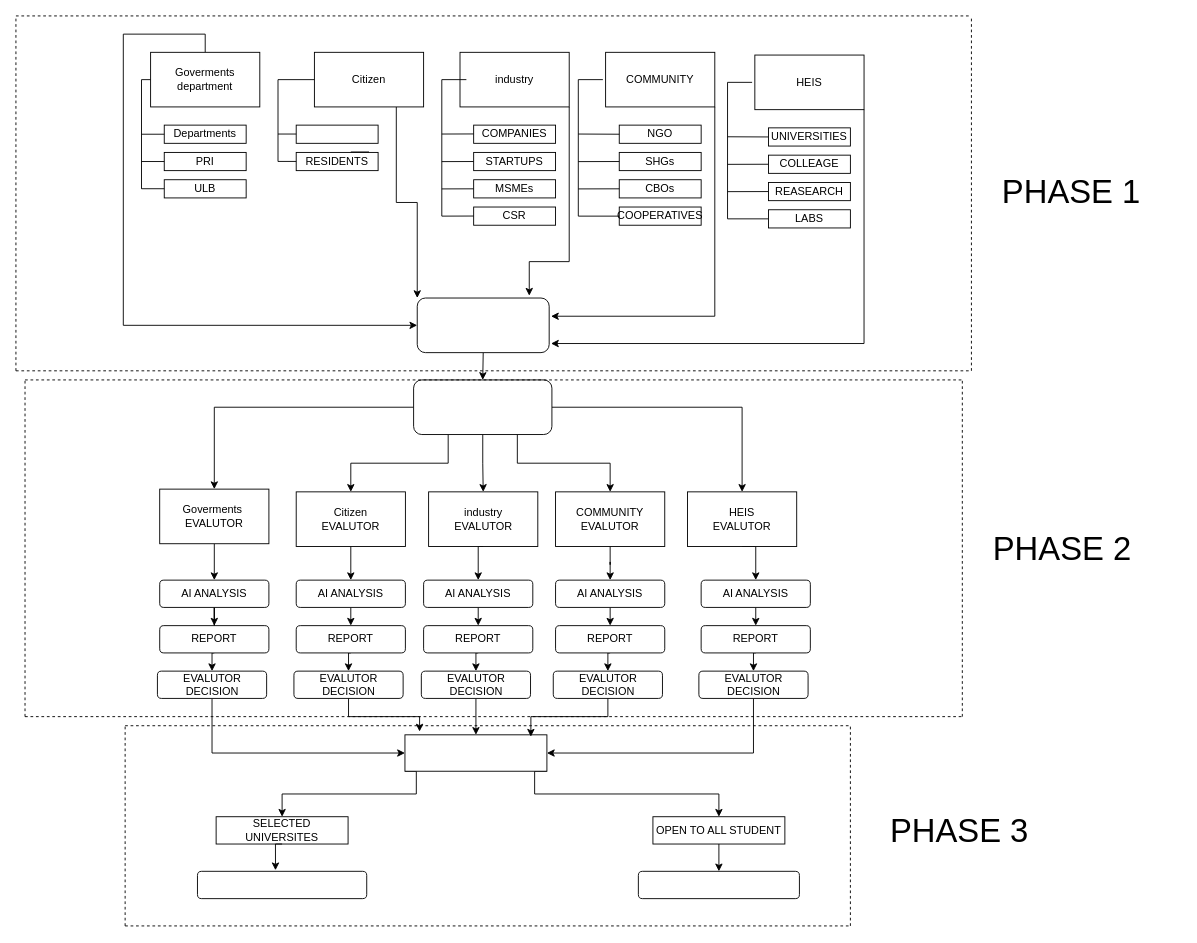
This 1197x943 diagram has some shape labels left out. The centre of each missing label's shape, as x and y in pixels:
EVALUTOR ENGINE: point (482, 407)
INDIVIDUALS: point (336, 133)
LIVE INNOVATION PORTAL FOR ALL STUDENT: point (718, 884)
LIVE ON INNOVATION PORTAL FOR SELECTED UNIVERSITES: point (282, 884)
PROBLEM STATEMENT DISTRIBUTION: point (475, 752)
PROBLEM STATEMENT REGISTRATION: point (482, 325)
